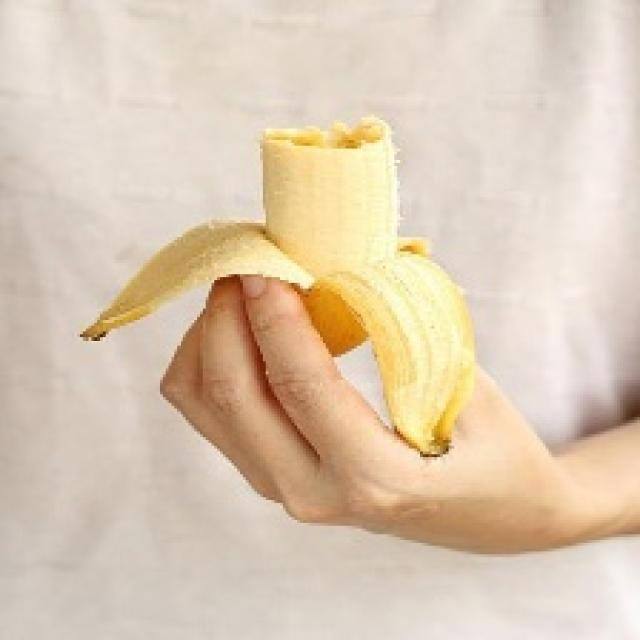Banana: (77, 114, 474, 457)
